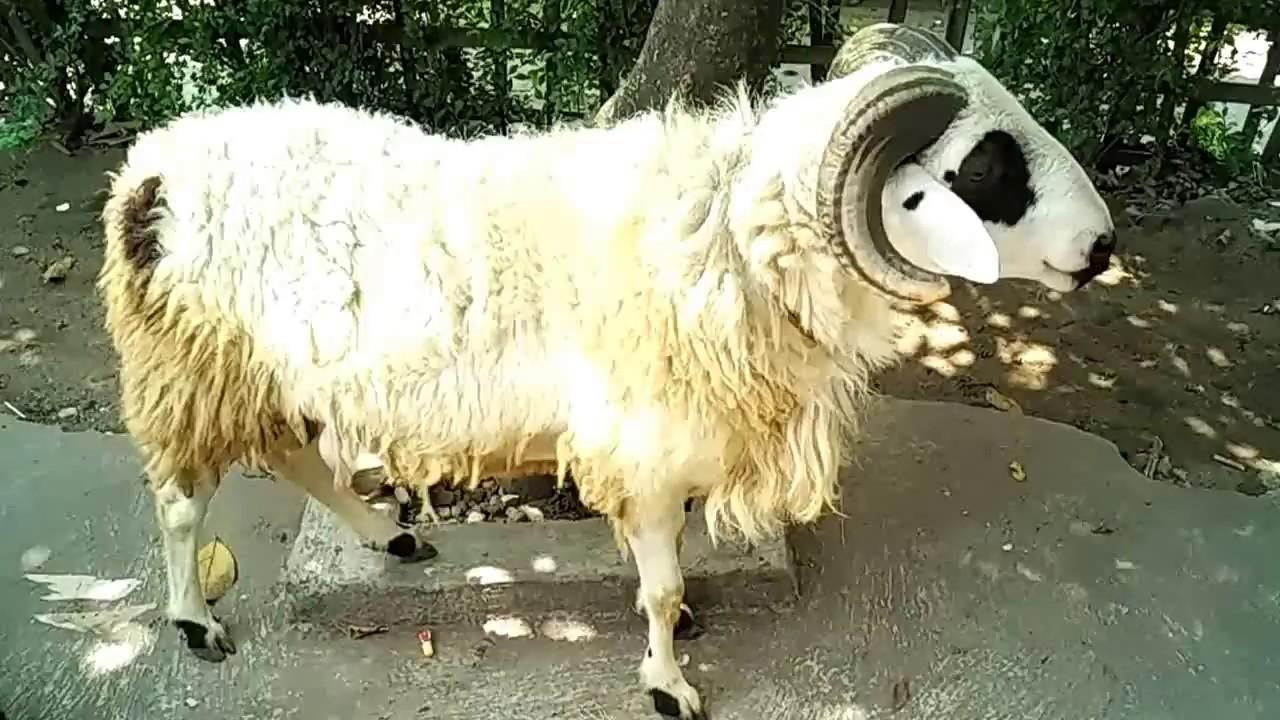Sheep: (760, 6, 1130, 337)
